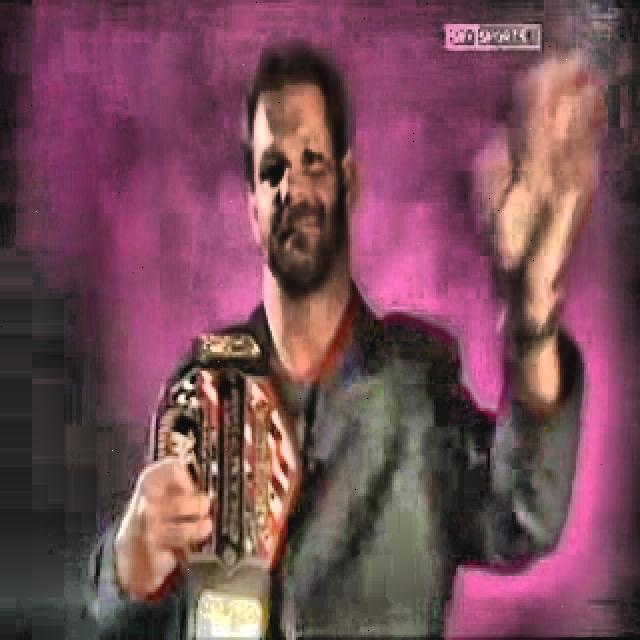L: (84, 41, 589, 638)
